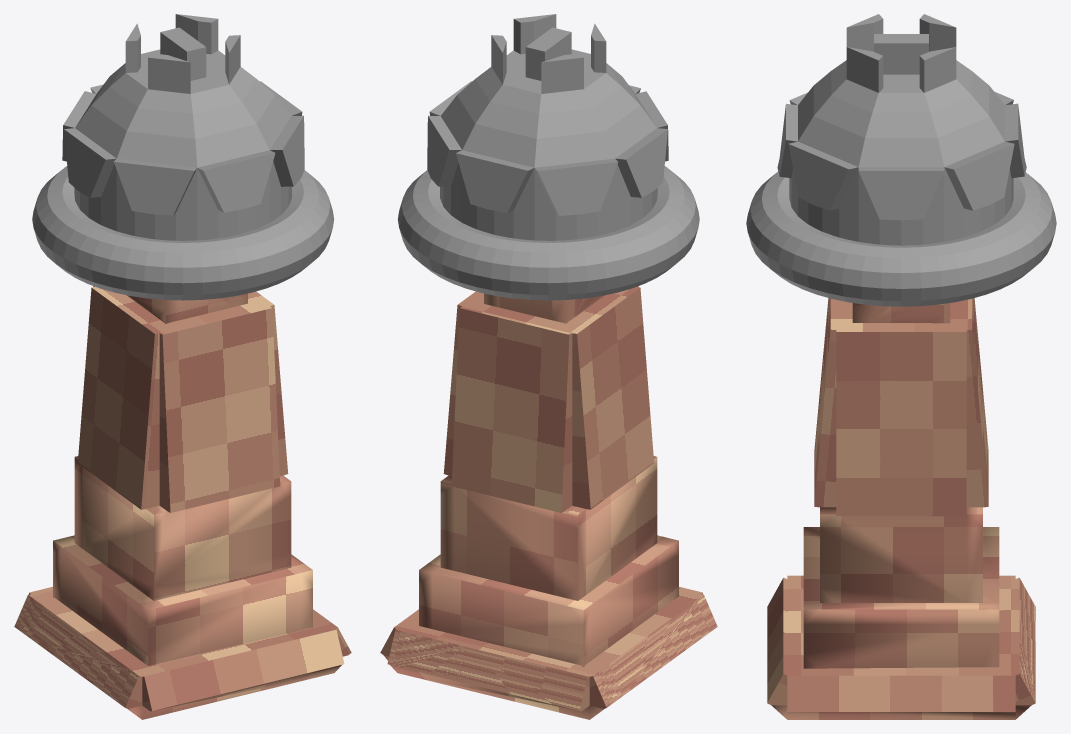
File: rook.obj
The picture shows the model from 3 angles, left to right: view 1: azimuth 30°, elevation 25°; view 2: azimuth 150°, elevation 25°; view 3: azimuth 270°, elevation 25°; orthographic projection. The views are drawn at different scales.
Parts seen in each view (by area): view 1: Cylinder; view 2: Cylinder; view 3: Cylinder.
Part boxes in pixels (left/top/right/bottom): Cylinder: left=14, top=14, right=351, bottom=719; Cylinder: left=380, top=14, right=717, bottom=719; Cylinder: left=746, top=14, right=1056, bottom=719.
Size of the model in its own units: 1.69 by 3.81 by 1.69.
